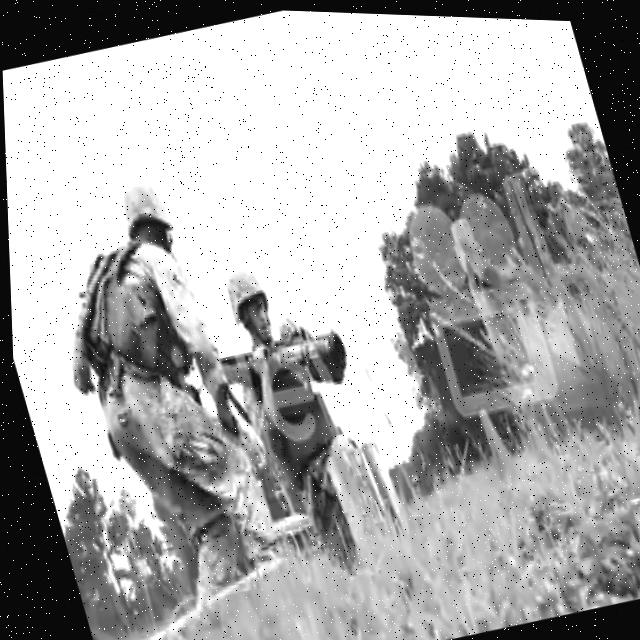rocket: (211, 313, 351, 406)
